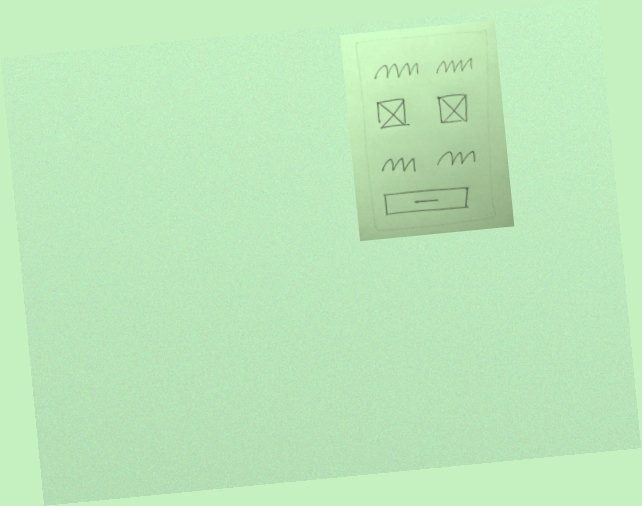button: (381, 184, 472, 219)
image: (434, 91, 472, 128), (374, 96, 413, 131)
text: (370, 58, 421, 85), (432, 145, 479, 172), (378, 152, 419, 179), (432, 55, 476, 79)
